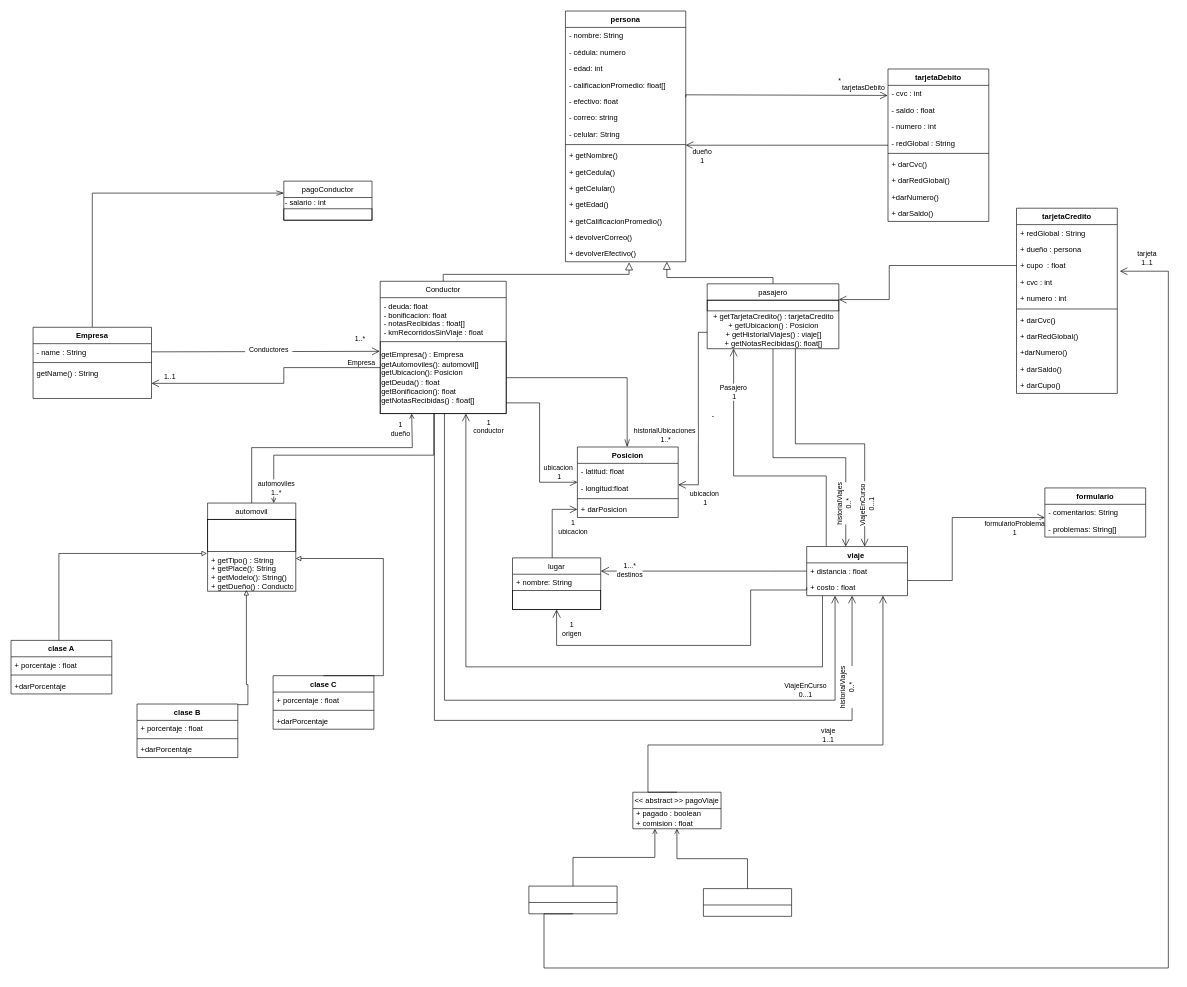
This 1187x987 diagram has some shape labels left out. The shapes that lost their labels are listed below. From the top down, each one's centre as x and y in pixels, then its label:
At point 327,214: "+ getSalario() : int".
At point 773,305: "+ notasRecibidas : float[]".
At point 251,535: "- tipo : String - placa : String - modelo : string".
At point 556,600: "+ getNombre() : String".
At point 572,899: "pagoTarjeta".
At point 747,902: "pago efectivo".
